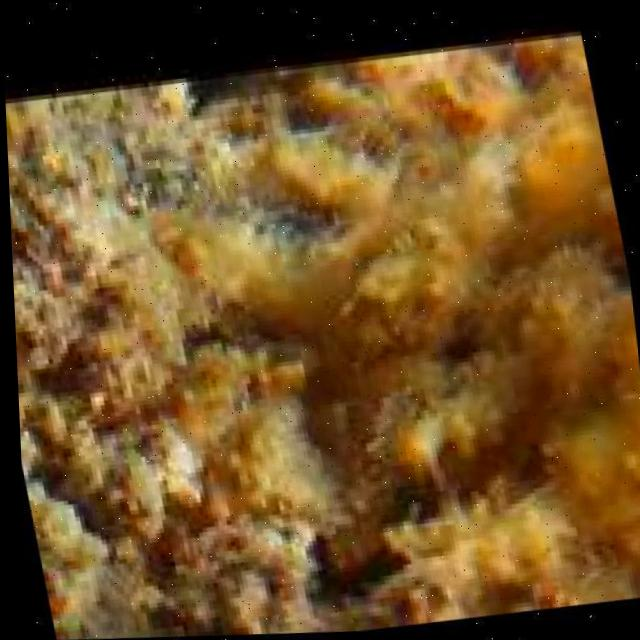Healthy Coral: (247, 28, 640, 640)
